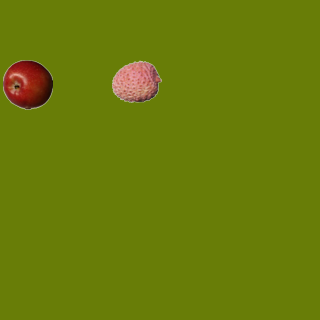Apple Braeburn: (2, 59, 52, 109)
Lychee: (111, 56, 161, 106)
